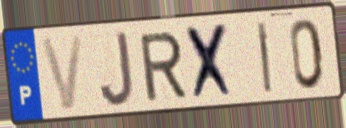0: (288, 17, 326, 91)
I: (255, 19, 274, 96)
J: (97, 29, 136, 110)
R: (137, 28, 189, 104)
V: (38, 33, 85, 114)
X: (183, 20, 238, 103)
